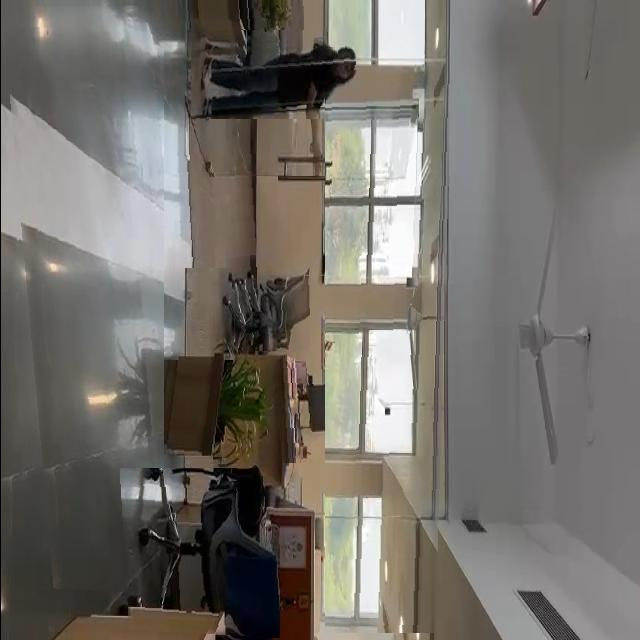floor: (0, 6, 163, 598), (167, 145, 255, 268)
furniture: (118, 468, 279, 639), (163, 360, 255, 459), (230, 251, 309, 351), (274, 361, 341, 464), (184, 0, 303, 30)
moving_object: (190, 35, 362, 119)
wall: (324, 67, 451, 633)
